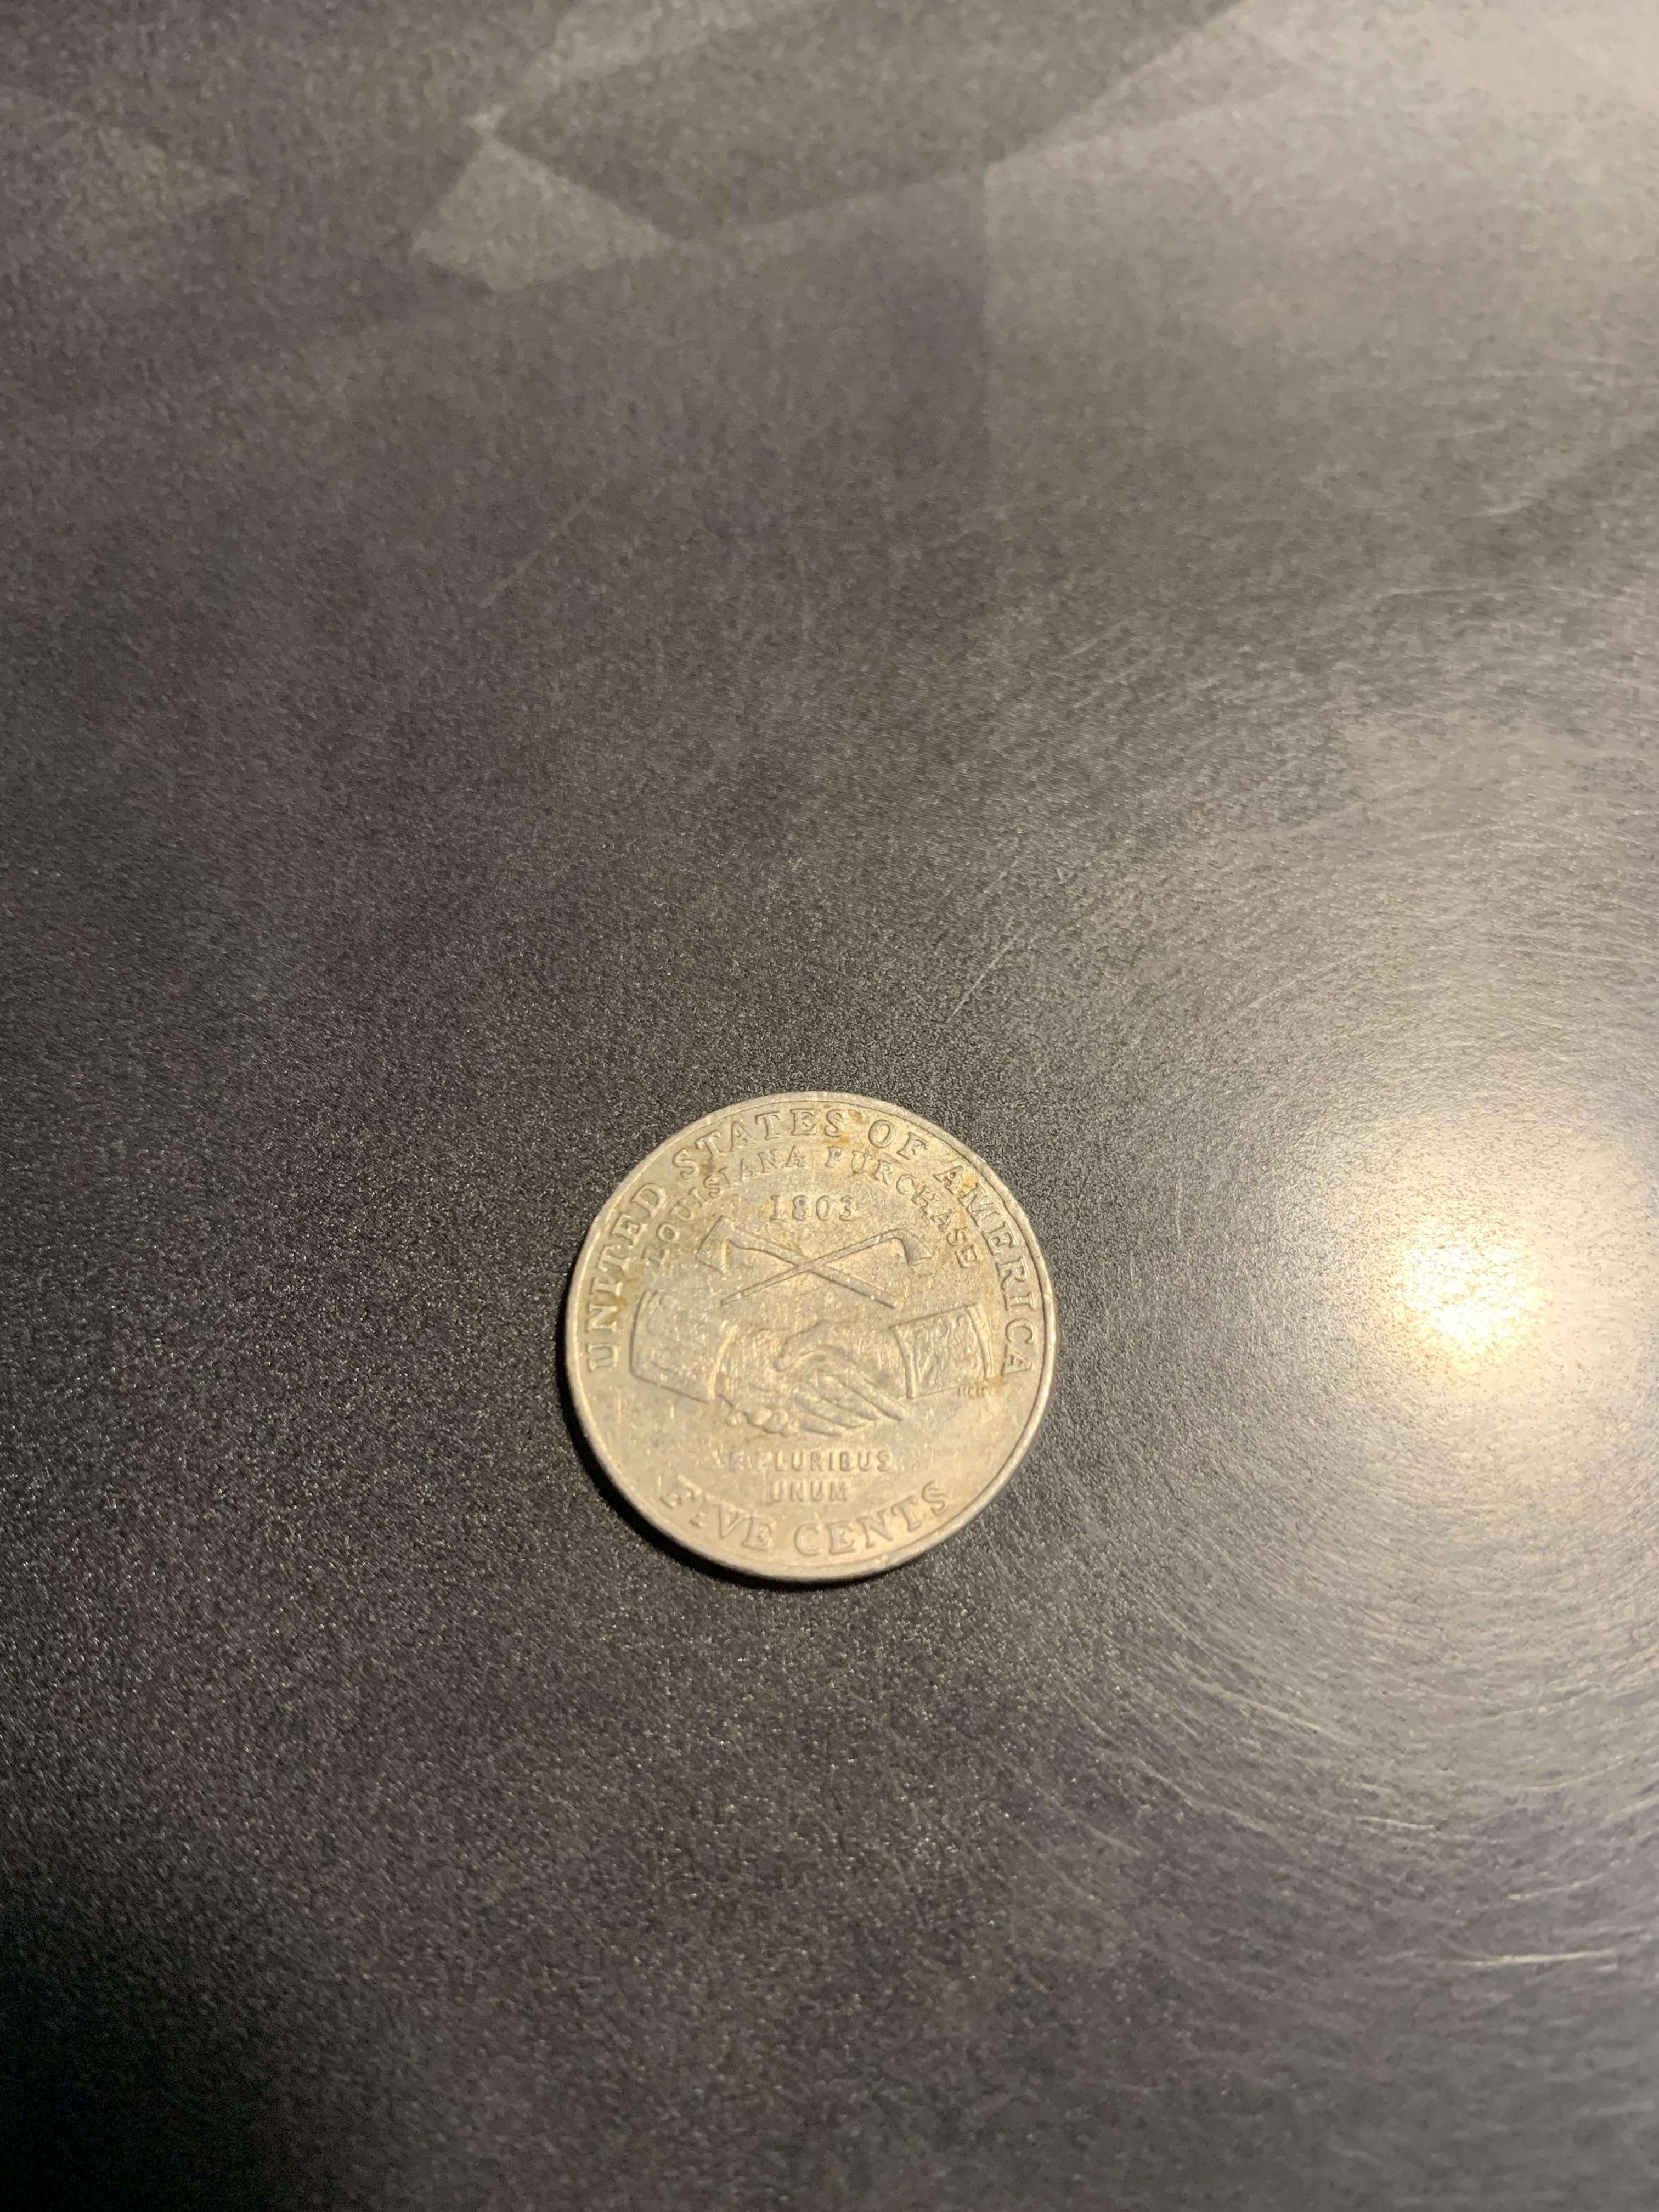Nickel: (537, 1061, 1086, 1616)
